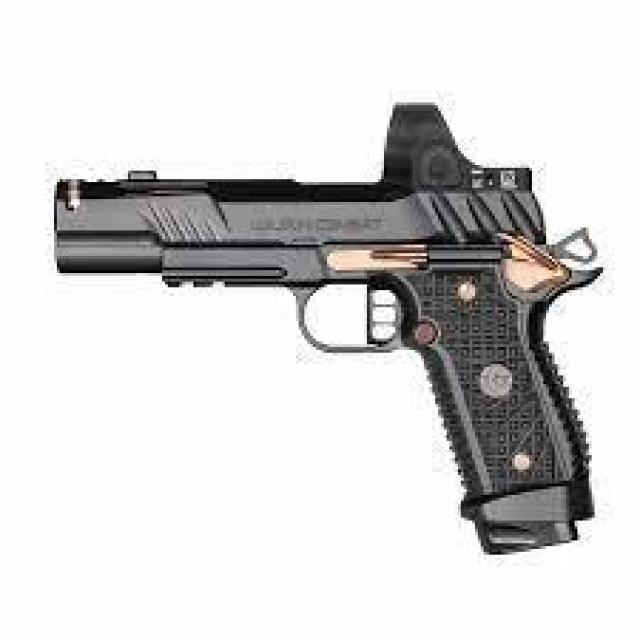gun: (51, 100, 606, 558)
